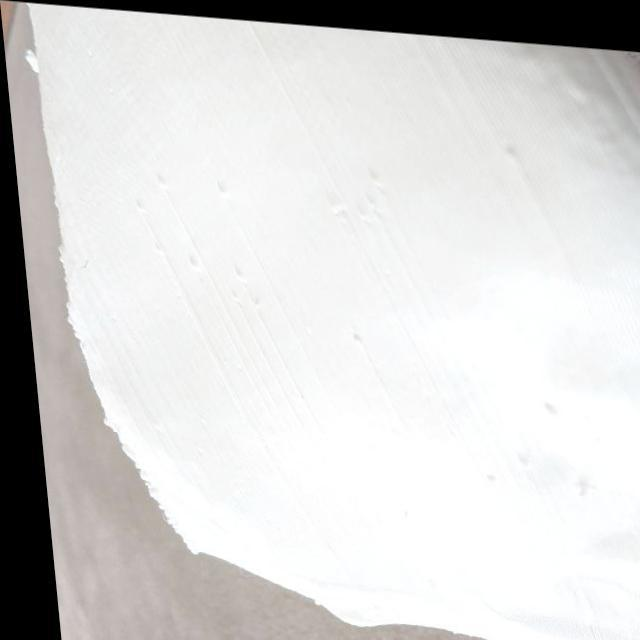zits: (530, 388, 550, 410), (560, 474, 582, 493), (209, 177, 228, 196), (182, 250, 198, 271), (128, 196, 146, 213), (340, 326, 359, 342), (499, 131, 514, 151), (504, 444, 520, 460), (146, 239, 162, 254), (220, 284, 234, 300), (151, 172, 166, 186), (226, 264, 241, 278), (477, 463, 490, 479), (244, 292, 255, 304)
